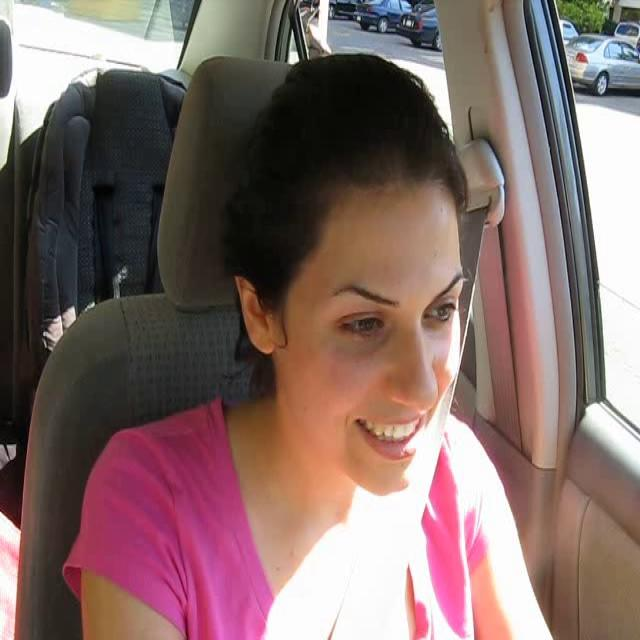close: (346, 406, 437, 463)
